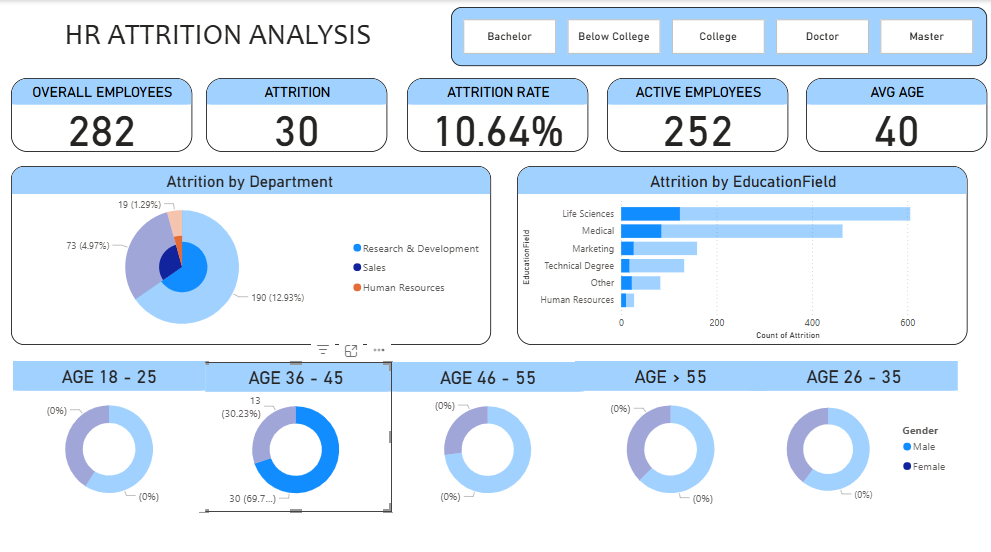

The dashboard page shown, as its layout file describes it:
{"tool":"powerbi","page":{"name":"TIKTOKINSPIRED","canvas":[1280,720],"ordinal":3},"visuals":[{"type":"advancedSlicerVisual","fields":{"Values":["EmployeeTable.Education Level"]},"box":[581.2,8.8,688.8,76.2],"z":0},{"type":"card","title":"OVERALL EMPLOYEES","fields":{"Values":["CountNonNull(EmployeeTable.EmployeeCount)"]},"box":[15,100,232.5,95],"z":1000},{"type":"card","title":"ATTRITION","fields":{"Values":["EmployeeTable.Attrition Count"]},"box":[266.2,100,232.5,95],"z":2000},{"type":"card","title":"ATTRITION RATE","fields":{"Values":["EmployeeTable.Attrition Rate"]},"box":[523.8,100,232.5,95],"z":3000},{"type":"card","title":"ACTIVE EMPLOYEES","fields":{"Values":["EmployeeTable.Active Employees"]},"box":[781.2,100,232.5,95],"z":4000},{"type":"card","title":"AVG AGE","fields":{"Values":["EmployeeTable.Average Age"]},"box":[1037.5,100,232.5,95],"z":5000},{"type":"pieChart","title":"Attrition by Department","fields":{"Category":["EmployeeTable.Department"],"Y":["CountNonNull(EmployeeTable.Attrition)"]},"box":[15.2,213.4,616.8,229.8],"z":6000},{"type":"barChart","title":"Attrition by EducationField","fields":{"Category":["EmployeeTable.EducationField"],"Y":["CountNonNull(EmployeeTable.Attrition)"]},"box":[666.1,213.4,579.3,229.8],"z":7000},{"type":"donutChart","title":"36 - 45","fields":{"Category":["EmployeeTable.Gender"],"Y":["EmployeeTable.Attrition Count"]},"box":[258.4,464.8,246.4,193.1],"z":8000},{"type":"donutChart","title":"46 - 55","fields":{"Category":["EmployeeTable.Gender"],"Y":["EmployeeTable.Attrition Count"]},"box":[504.8,464.8,246.4,193.1],"z":9000},{"type":"donutChart","title":"18 - 25","fields":{"Category":["EmployeeTable.Gender"],"Y":["EmployeeTable.Attrition Count"]},"box":[18.6,464.3,247.1,194.3],"z":10000},{"type":"donutChart","title":"26 - 35","fields":{"Category":["EmployeeTable.Gender"],"Y":["EmployeeTable.Attrition Count"]},"box":[965.7,464.3,267.1,194.3],"z":11000},{"type":"donutChart","title":"55","fields":{"Category":["EmployeeTable.Gender"],"Y":["EmployeeTable.Attrition Count"]},"box":[740,464.3,245.7,194.3],"z":12000},{"type":"textbox","box":[14.7,9.3,534.1,75.9],"z":13000}]}

Visuals, with their boxes in screenshot pixels (x1, y1, x2, y2), scaled from the page's 1280x720 canvas onto the 991x552 screenshot:
advancedSlicerVisual - EmployeeTable.Education Level: (x1=450, y1=7, x2=983, y2=65)
"OVERALL EMPLOYEES" card: (x1=12, y1=77, x2=192, y2=150)
"ATTRITION" card: (x1=206, y1=77, x2=386, y2=150)
"ATTRITION RATE" card: (x1=406, y1=77, x2=586, y2=150)
"ACTIVE EMPLOYEES" card: (x1=605, y1=77, x2=785, y2=150)
"AVG AGE" card: (x1=803, y1=77, x2=983, y2=150)
"Attrition by Department" pieChart: (x1=12, y1=164, x2=489, y2=340)
"Attrition by EducationField" barChart: (x1=516, y1=164, x2=964, y2=340)
"36 - 45" donutChart: (x1=200, y1=356, x2=391, y2=504)
"46 - 55" donutChart: (x1=391, y1=356, x2=582, y2=504)
"18 - 25" donutChart: (x1=14, y1=356, x2=206, y2=505)
"26 - 35" donutChart: (x1=748, y1=356, x2=954, y2=505)
"55" donutChart: (x1=573, y1=356, x2=763, y2=505)
textbox: (x1=11, y1=7, x2=425, y2=65)
